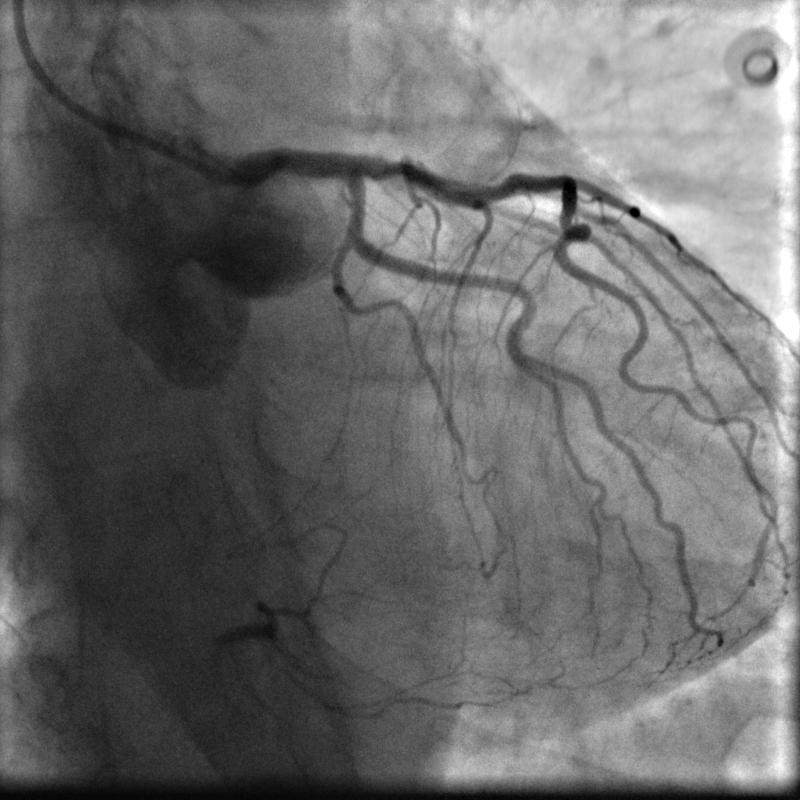Stenosis: (377, 152, 414, 185)
